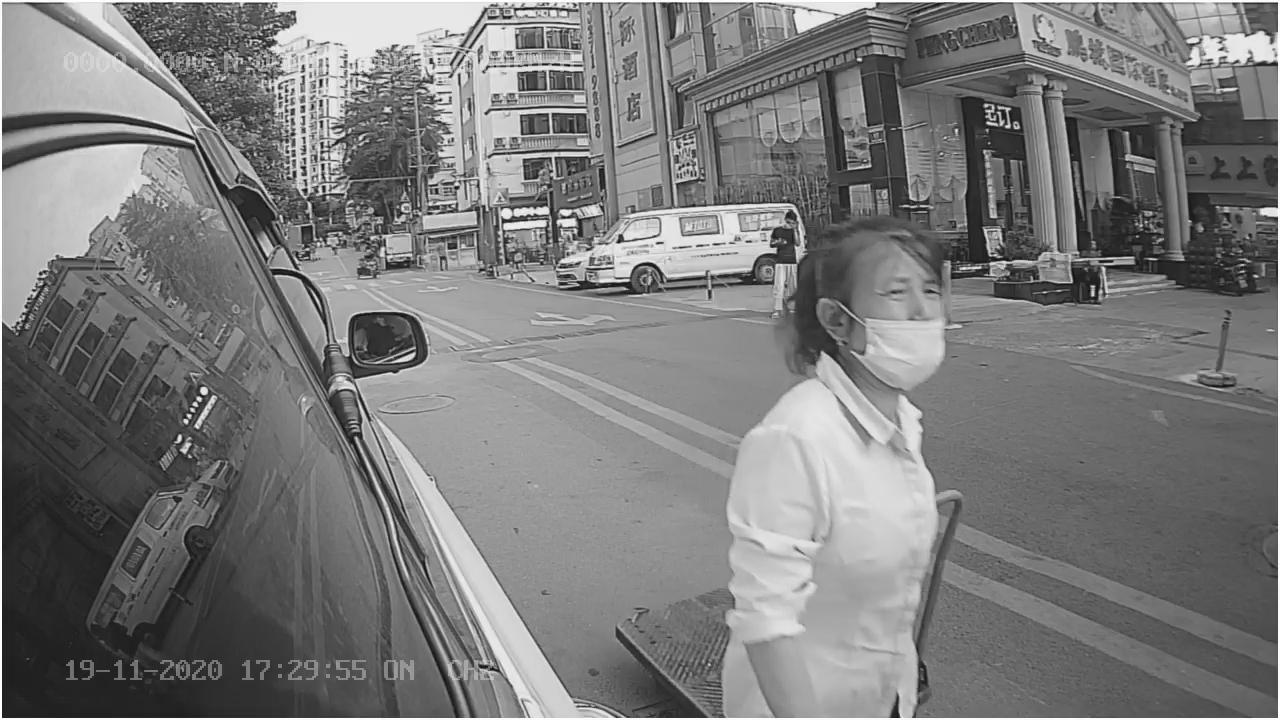person: (724, 221, 945, 704)
